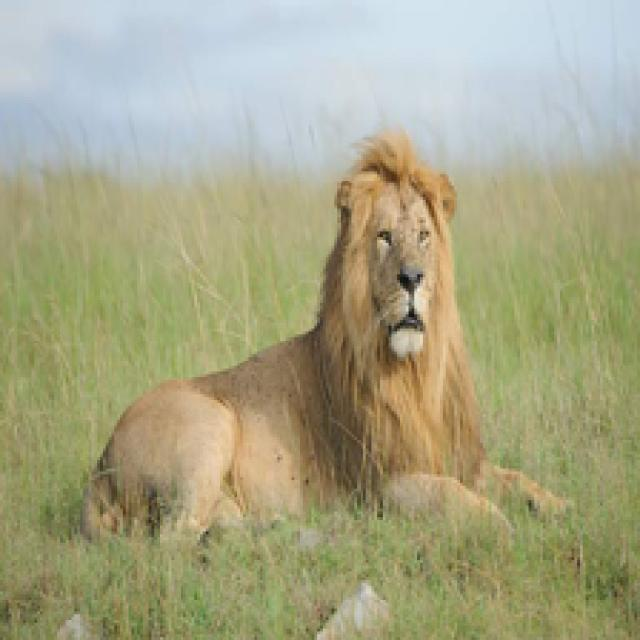lion: (79, 106, 578, 528)
